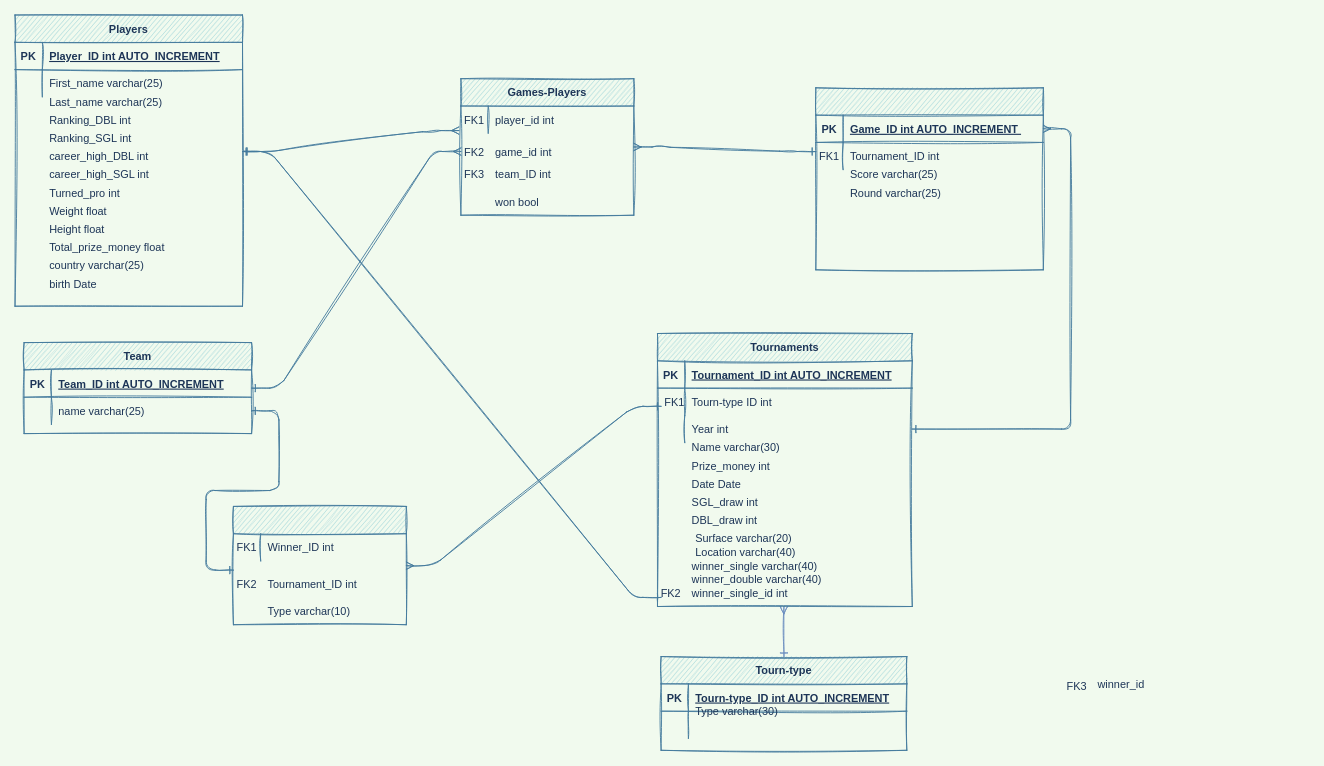
The diagram is 1324 pixels wide and 766 high, and some of its shapes have lost their labels. Here are the shapes that lost their labels. From the top down, the box of each, then its label:
(815, 87, 1043, 270): Games
(233, 506, 406, 625): Champions
